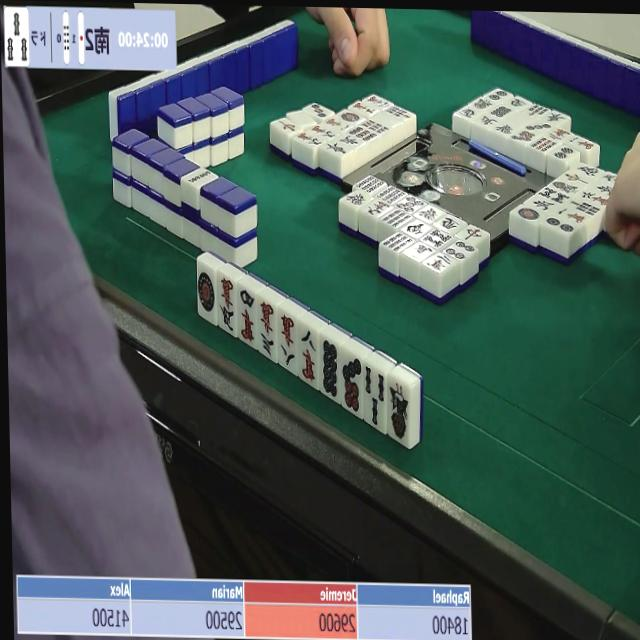m3: (256, 298, 278, 359)
m4: (237, 288, 259, 348)
m5: (215, 276, 236, 336)
m8: (294, 326, 321, 388), (277, 312, 300, 371)
s1: (386, 379, 412, 448)
s3: (361, 365, 387, 433), (4, 8, 29, 67)
t1: (197, 264, 218, 322)
t7: (341, 352, 366, 416)
t8: (318, 338, 343, 401)
